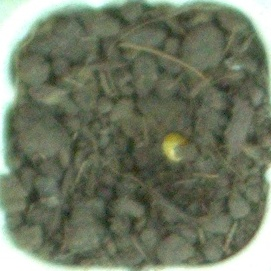pepper seed: (66, 49, 256, 213)
